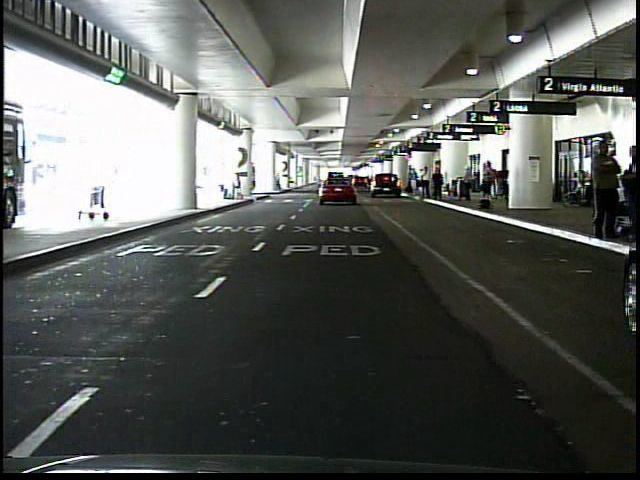person: (586, 137, 621, 242), (480, 161, 495, 209), (432, 168, 446, 203), (462, 166, 475, 203), (421, 165, 433, 200), (408, 167, 419, 198), (229, 173, 241, 200), (274, 172, 284, 189)
